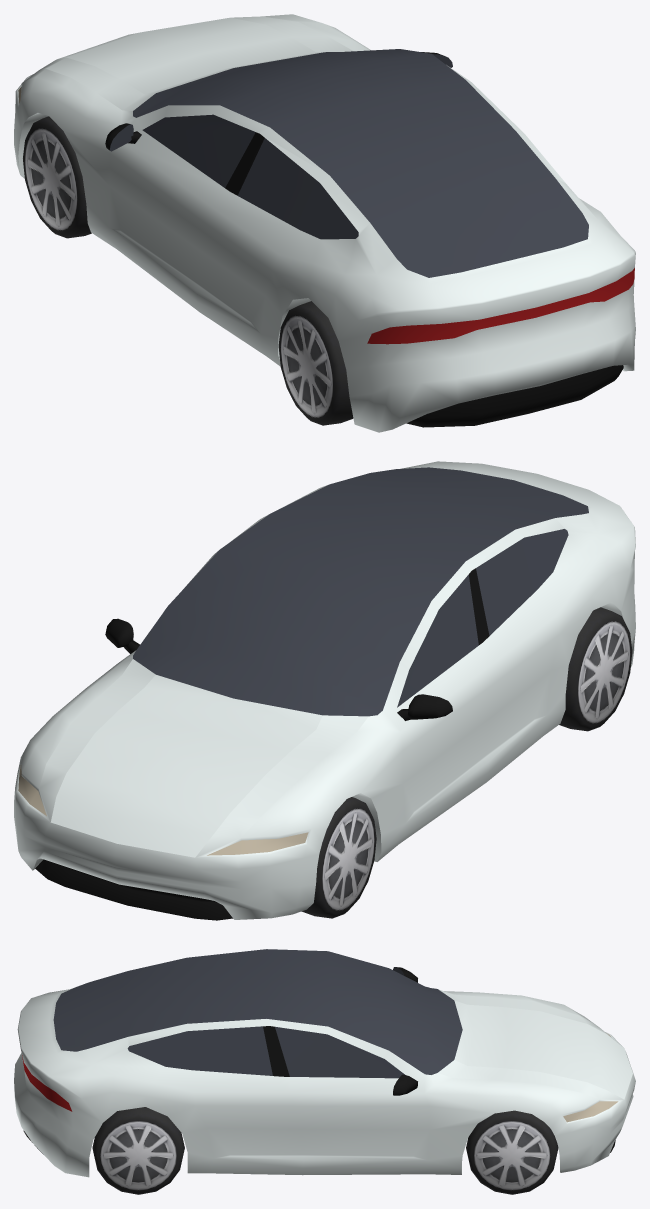
File: Car.glb
3 renders of one model, top to bottom at view 1: azimuth 30°, elevation 25°; view 2: azimuth 150°, elevation 25°; view 3: azimuth 270°, elevation 25°, orthographic. The views are drawn at different scales.
Visible parts, largest first — view 1: jiaoche_color, jiaoche.001; view 2: jiaoche_color, jiaoche.001; view 3: jiaoche_color, jiaoche.001.
Boxes of the visible parts, left/top/right/bottom form: jiaoche_color: left=14, top=14, right=635, bottom=432; jiaoche.001: left=18, top=49, right=634, bottom=427; jiaoche_color: left=14, top=461, right=635, bottom=919; jiaoche.001: left=18, top=467, right=632, bottom=920; jiaoche_color: left=14, top=987, right=635, bottom=1177; jiaoche.001: left=22, top=949, right=618, bottom=1194.
Bounding box in the file's own units: 2.31 × 1.44 × 4.96.
6 materials, 6 textured.
